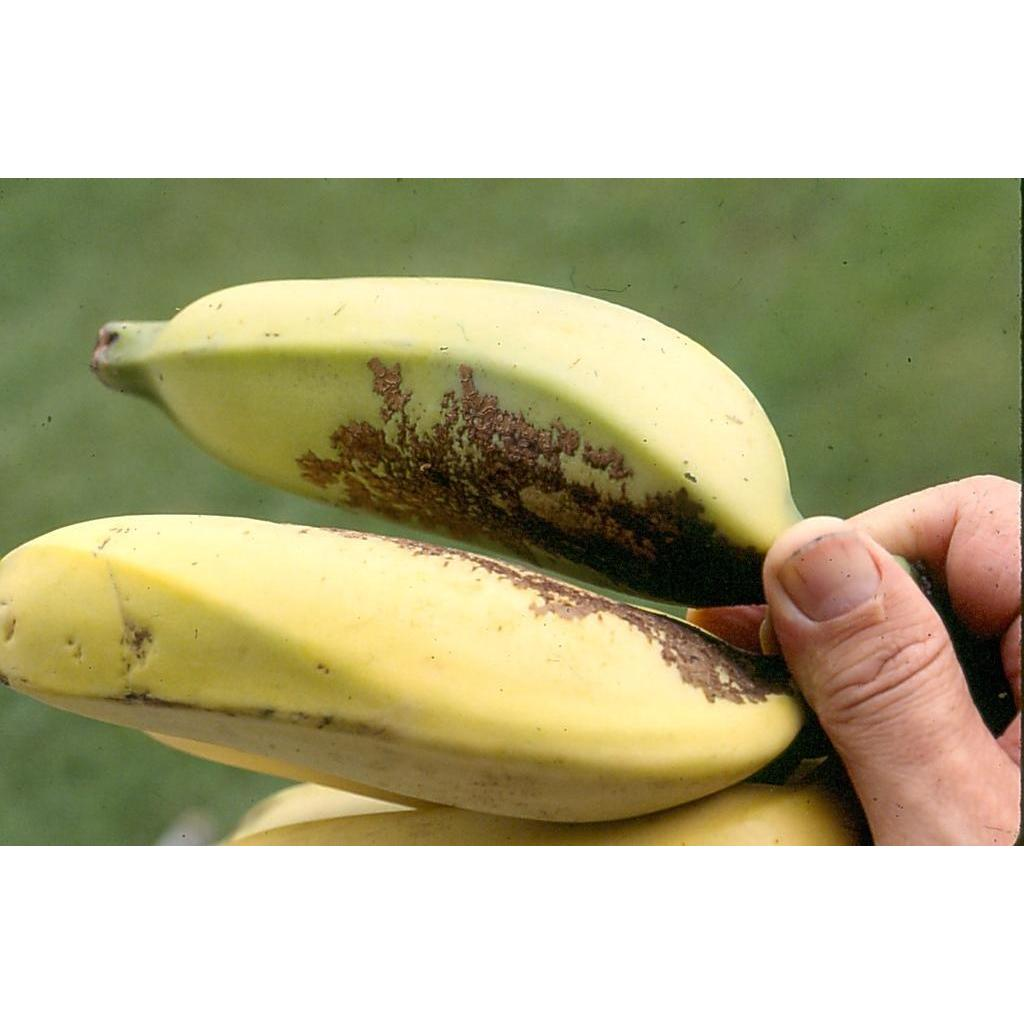banana: (87, 277, 803, 654), (0, 510, 773, 819)
